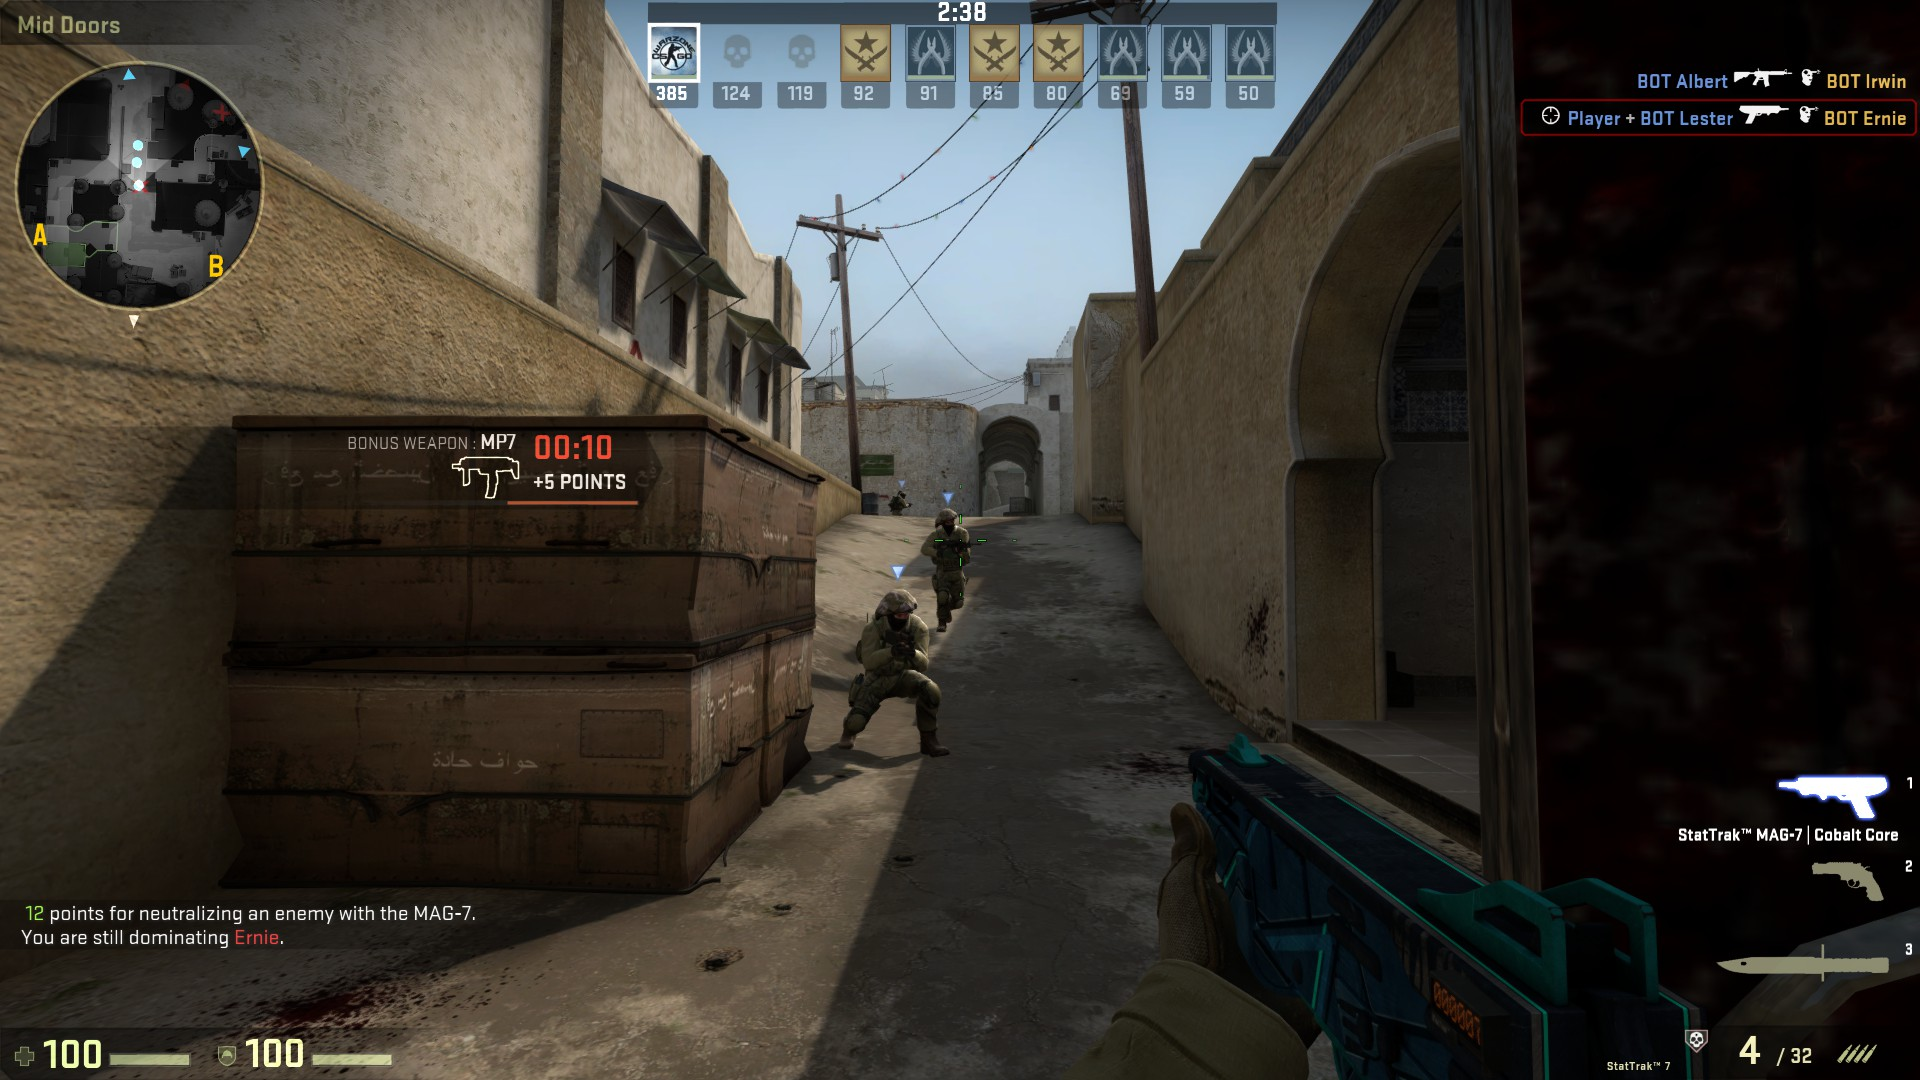c: (843, 588, 934, 758), (931, 508, 971, 636), (889, 491, 909, 518)
ch: (874, 585, 919, 632), (938, 506, 959, 533)
